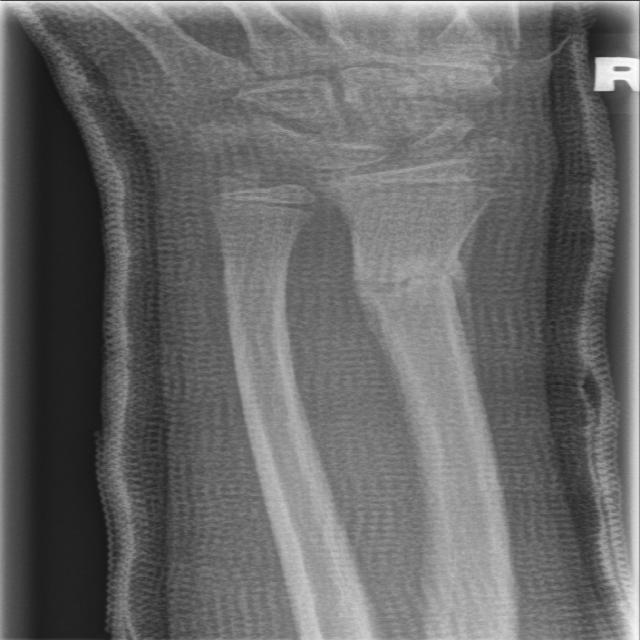radius fracture: (324, 225, 544, 396)
